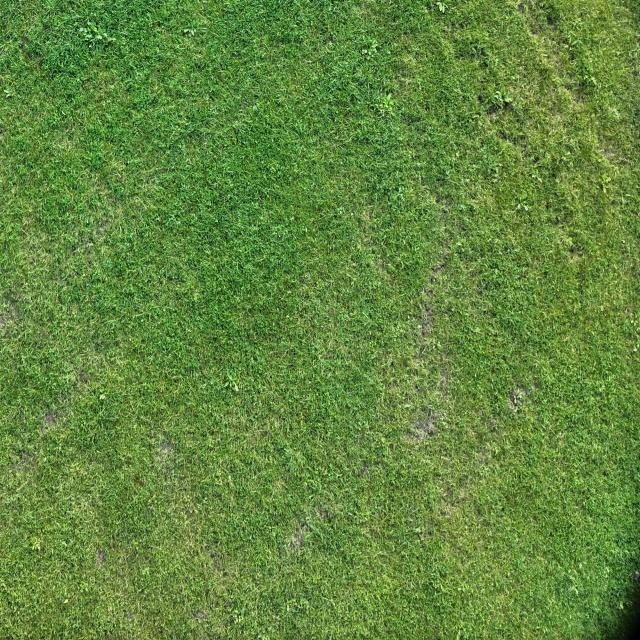rumex: (444, 170, 576, 326), (306, 219, 395, 324), (118, 237, 199, 300), (56, 113, 119, 184), (568, 48, 598, 90), (509, 172, 537, 212), (160, 114, 187, 149), (372, 90, 396, 116), (508, 386, 528, 412), (430, 0, 454, 16), (359, 40, 378, 60), (162, 213, 182, 231), (467, 38, 484, 56), (224, 373, 240, 391), (598, 171, 613, 188), (30, 537, 44, 552), (378, 435, 391, 451), (86, 22, 101, 35), (494, 89, 506, 105), (458, 620, 470, 636), (280, 445, 294, 458), (294, 122, 304, 138), (362, 208, 373, 222), (628, 51, 638, 66), (566, 36, 578, 48), (448, 150, 459, 163), (458, 202, 469, 214), (98, 386, 108, 399), (257, 630, 270, 640), (554, 430, 564, 443), (620, 194, 636, 202), (502, 94, 513, 105), (382, 77, 392, 89), (184, 28, 196, 38), (384, 91, 394, 102), (610, 109, 620, 120), (414, 524, 424, 535), (233, 614, 242, 626), (571, 584, 580, 596), (455, 240, 465, 250), (369, 39, 378, 50), (439, 415, 448, 426), (101, 257, 110, 268), (64, 374, 72, 386), (83, 32, 95, 40), (493, 167, 501, 178), (602, 565, 610, 576), (107, 35, 116, 44), (270, 527, 278, 537), (127, 231, 134, 242), (361, 47, 369, 56), (516, 202, 524, 211), (600, 184, 608, 193), (232, 608, 240, 617), (471, 112, 480, 120), (141, 565, 150, 573), (473, 327, 482, 335), (456, 628, 462, 640), (337, 207, 344, 217), (154, 214, 161, 224), (402, 402, 412, 409), (3, 88, 11, 96), (227, 475, 233, 485), (366, 258, 372, 268), (618, 600, 624, 610), (50, 71, 56, 81), (78, 27, 86, 34), (86, 20, 93, 28), (94, 34, 102, 41), (530, 174, 538, 181), (84, 216, 90, 225), (102, 32, 109, 39), (537, 176, 543, 184), (494, 238, 500, 246), (578, 561, 584, 569), (286, 602, 290, 614), (86, 240, 92, 248), (610, 421, 615, 430), (63, 597, 69, 604), (149, 504, 154, 512), (636, 343, 640, 352)
